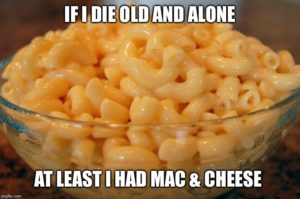cheese: (55, 39, 264, 115)
